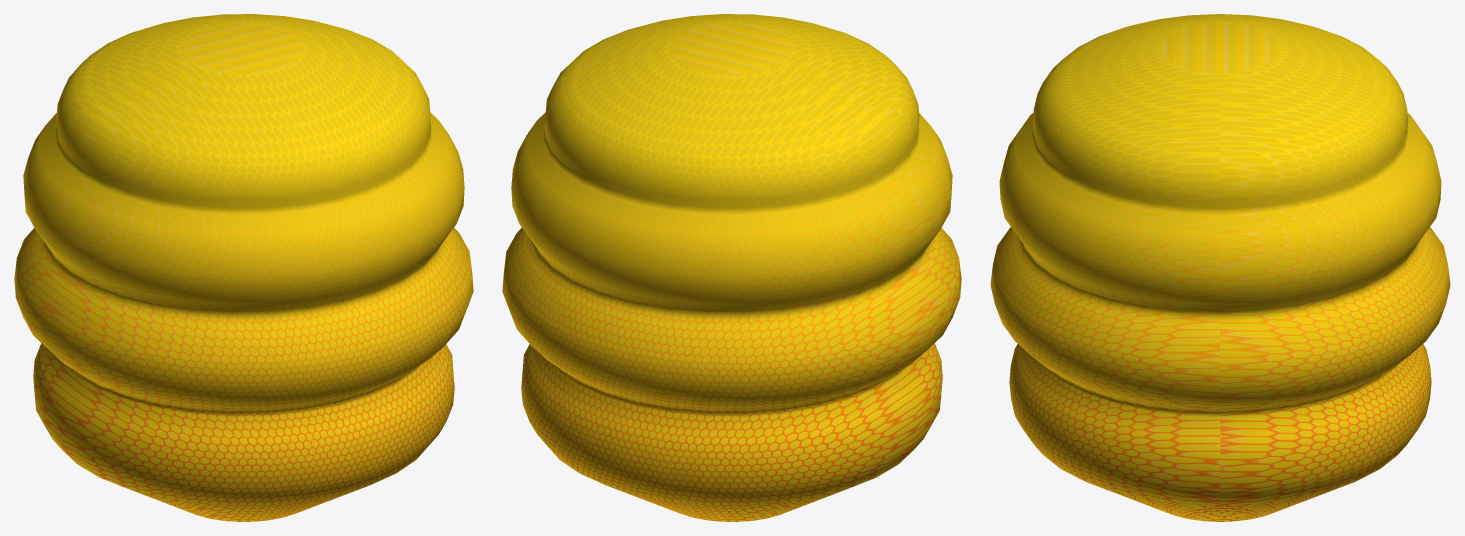
The model's file is hive.glb.
The picture shows the model from 3 angles, left to right: view 1: azimuth 30°, elevation 25°; view 2: azimuth 150°, elevation 25°; view 3: azimuth 270°, elevation 25°; orthographic projection.
Parts seen in each view (by area): view 1: Hive; view 2: Hive; view 3: Hive.
Boxes of the visible parts, x1=… form: Hive: x1=14, y1=14, x2=473, y2=521; Hive: x1=502, y1=14, x2=961, y2=521; Hive: x1=990, y1=14, x2=1450, y2=521.
Size of the model in its own units: 2.52 by 2.66 by 2.52.
Materials: 1 (1 with a texture image).
